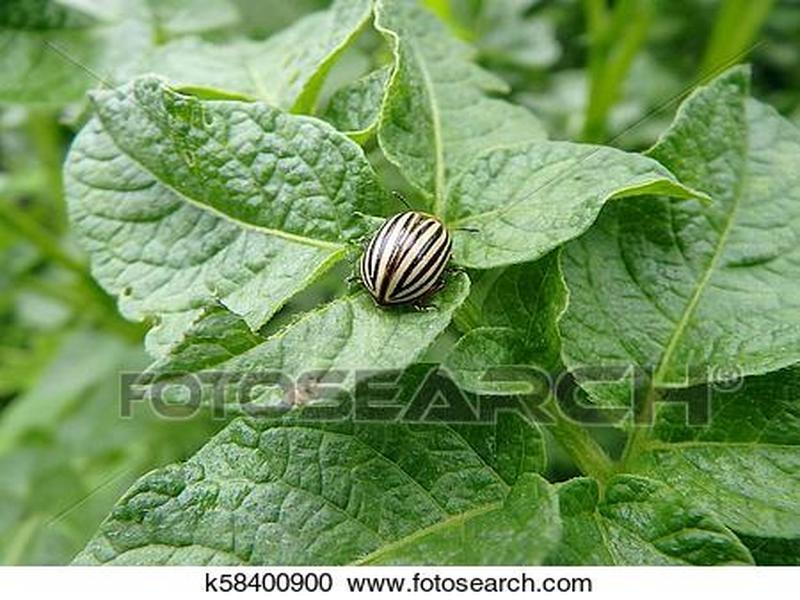hrosc: (355, 186, 459, 316)
